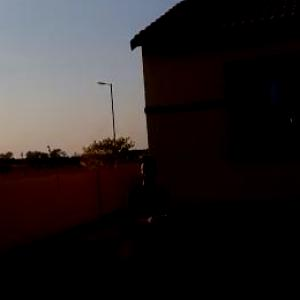follow: (120, 149, 194, 299)
